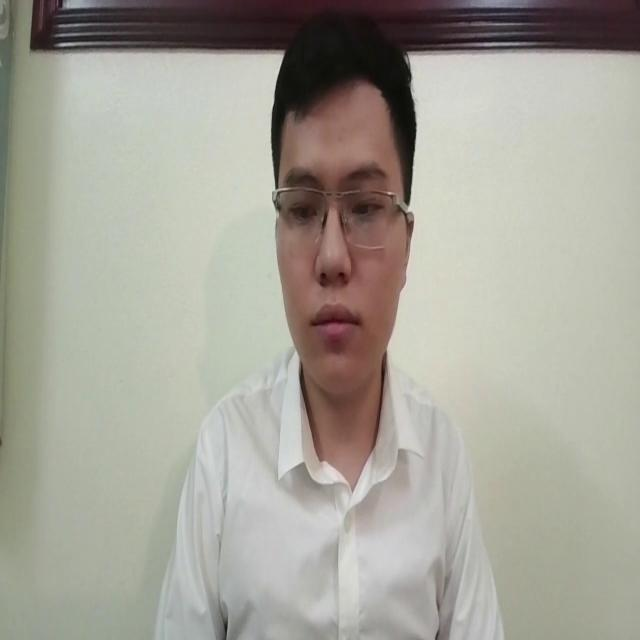student: (151, 26, 499, 640)
